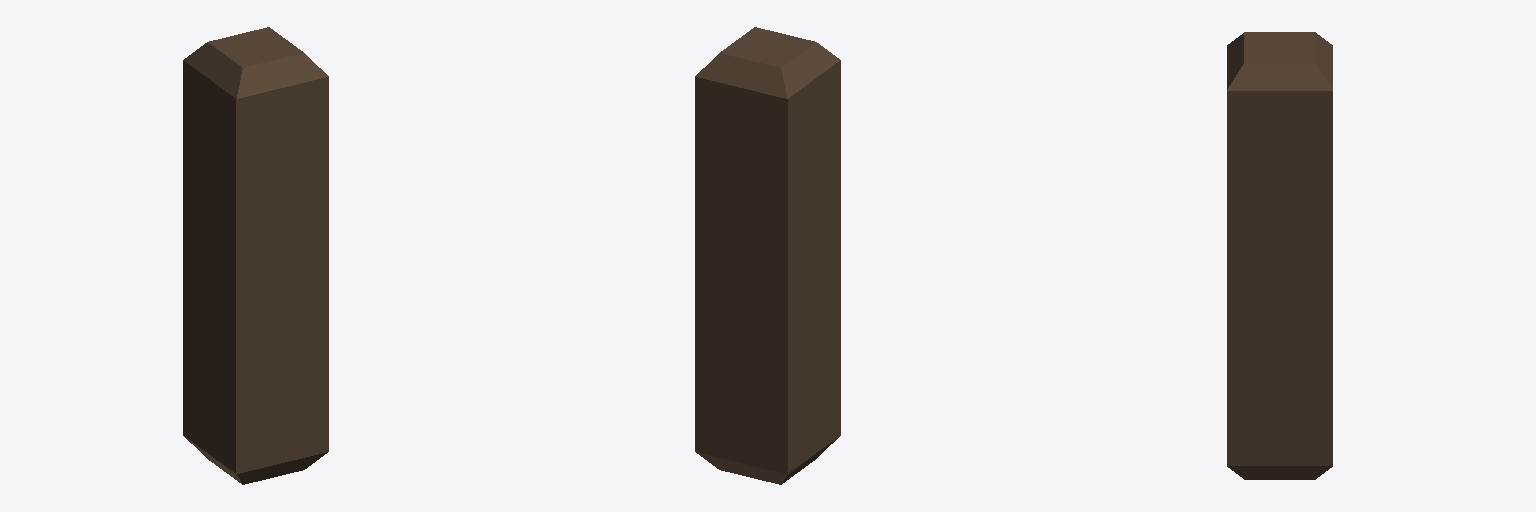
The model's file is Wood_Post_Large.obj.
3 views of the same model, side by side, from view 1: azimuth 30°, elevation 25°; view 2: azimuth 150°, elevation 25°; view 3: azimuth 270°, elevation 25° (orthographic).
Visible parts, largest first — view 1: object1; view 2: object1; view 3: object1.
Boxes of the visible parts, <box> form: object1: <box>183,27,328,484</box>; object1: <box>695,27,840,484</box>; object1: <box>1227,32,1332,479</box>.
Size of the model in its own units: 0.231 by 0.9959 by 0.231.